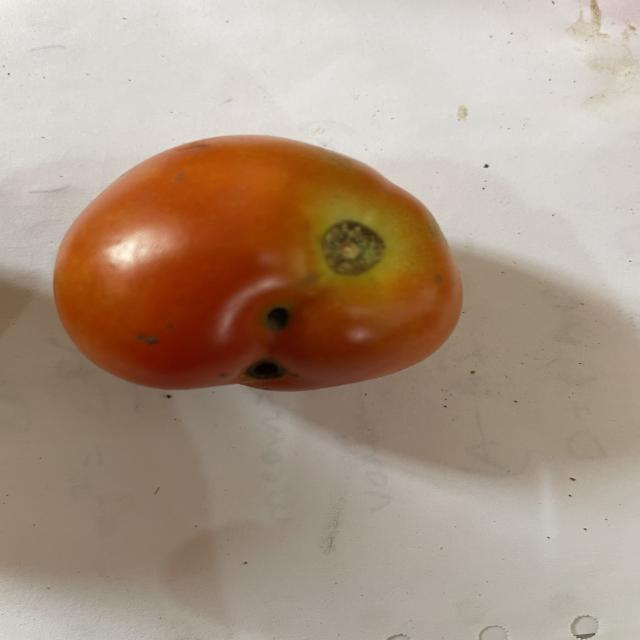fruitworm_bore: (235, 299, 296, 391)
